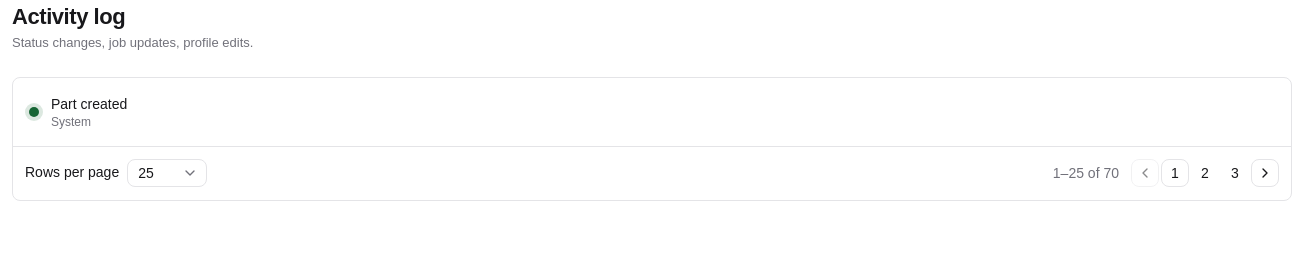
Test: resets Activity Log to page one when changing page size with the keyboard
The image size is (1292, 268).
Expected: the text "1–25 of 70" is shown, x1=1053 y1=163 x2=1119 y2=183
Click the button named "Page 2". click: x=1205, y=173
box: x1=1191 y1=159 x2=1219 y2=187
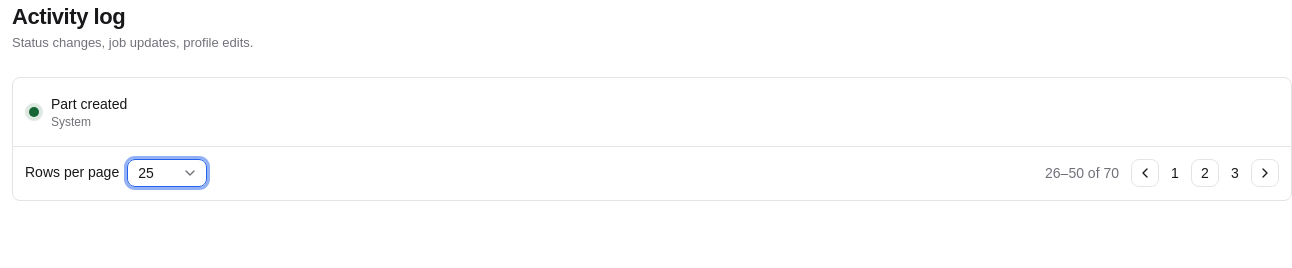
Expected: the text "26–50 of 70" is shown, x1=1045 y1=163 x2=1119 y2=183
Type keys " "
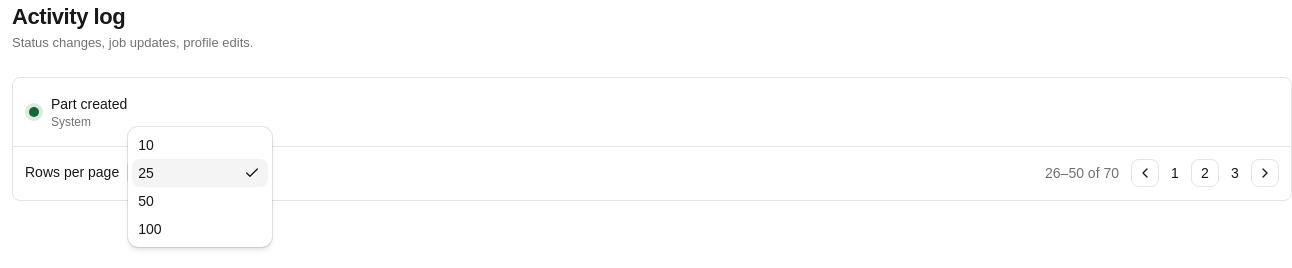
Press Home Enter
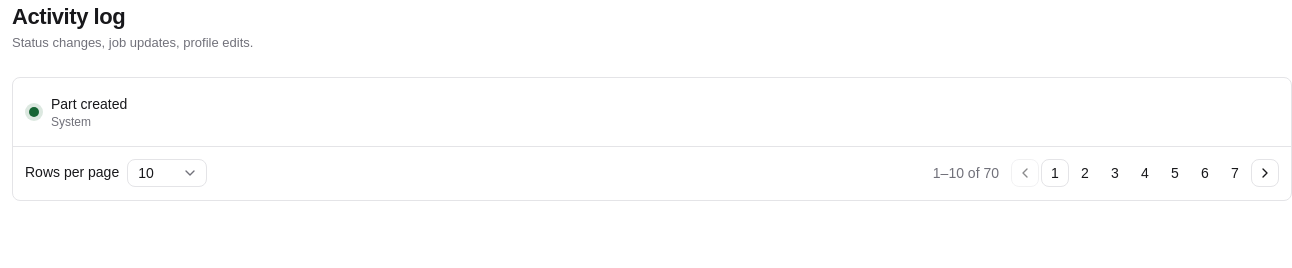
Expected: the text "1–10 of 70" is shown, x1=933 y1=163 x2=999 y2=183
